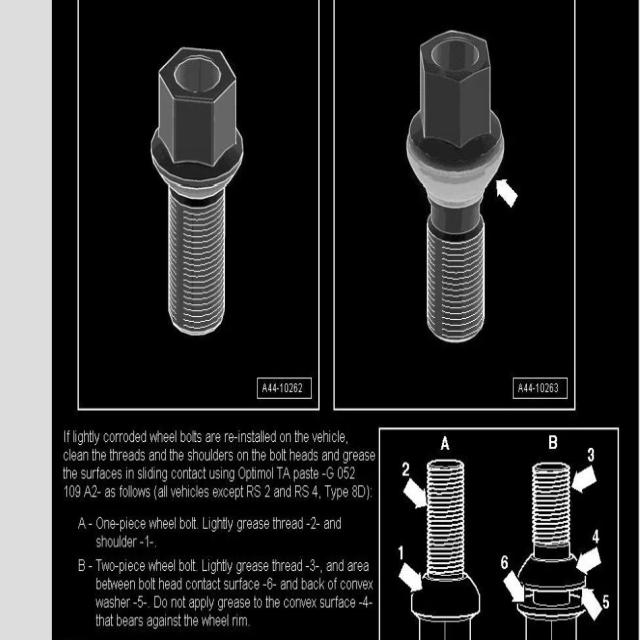numeric: (587, 444, 598, 463), (501, 550, 511, 569), (396, 542, 405, 562), (591, 527, 601, 545), (402, 461, 411, 478), (602, 594, 610, 610), (91, 485, 98, 500), (266, 576, 273, 591), (309, 556, 315, 573), (362, 595, 369, 609), (337, 466, 344, 480), (264, 484, 271, 498), (350, 465, 356, 481), (137, 595, 143, 609), (75, 485, 81, 499), (352, 485, 358, 498), (344, 466, 350, 479), (69, 485, 75, 498), (143, 535, 149, 547), (311, 515, 316, 529), (64, 485, 69, 499), (288, 382, 294, 393), (297, 382, 303, 393), (313, 485, 318, 498), (272, 383, 277, 394), (549, 382, 554, 393), (284, 383, 289, 393), (540, 383, 545, 393), (293, 382, 297, 393), (524, 383, 528, 393), (545, 383, 549, 393), (555, 383, 559, 393), (529, 383, 533, 392), (269, 383, 272, 394), (280, 383, 283, 394), (536, 384, 539, 394)
